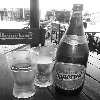beer: (52, 1, 87, 92)
